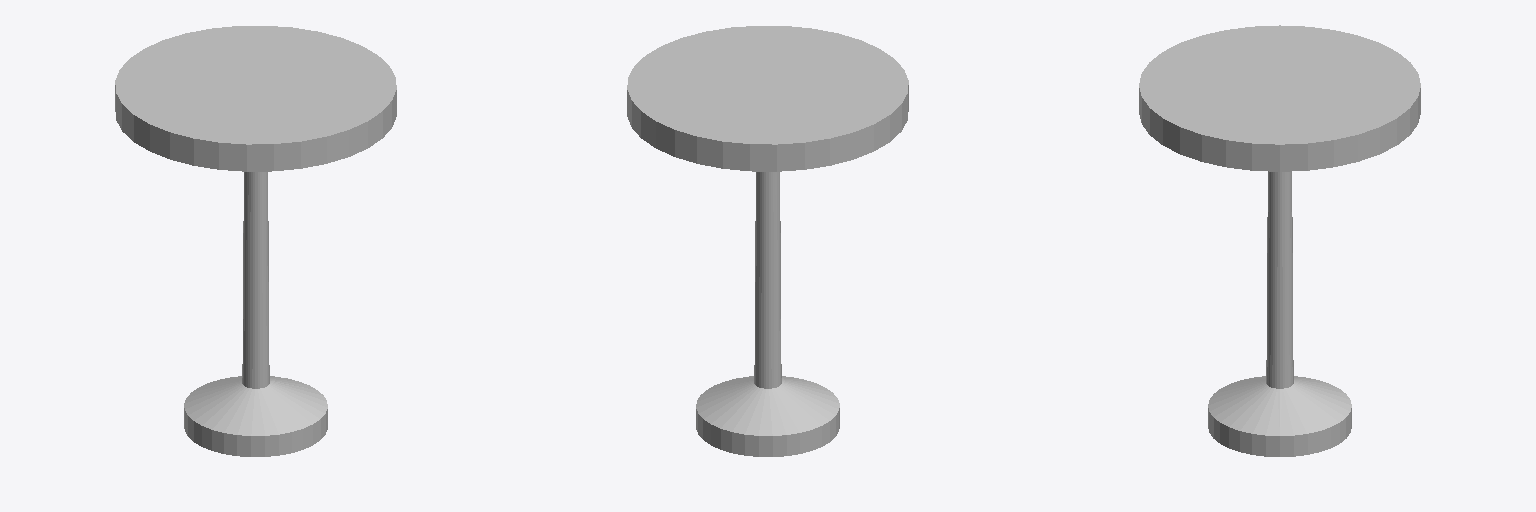
The model's file is stoolclue.obj.
3 renders of one model, left to right at view 1: azimuth 30°, elevation 25°; view 2: azimuth 150°, elevation 25°; view 3: azimuth 270°, elevation 25°, orthographic.
Visible parts, largest first — view 1: Cylinder.002; view 2: Cylinder.002; view 3: Cylinder.002.
Boxes of the visible parts, <box> form: Cylinder.002: <box>115,26,396,456</box>; Cylinder.002: <box>627,26,908,456</box>; Cylinder.002: <box>1139,25,1420,456</box>.
Size of the model in its own units: 2.94 by 3.93 by 2.94.